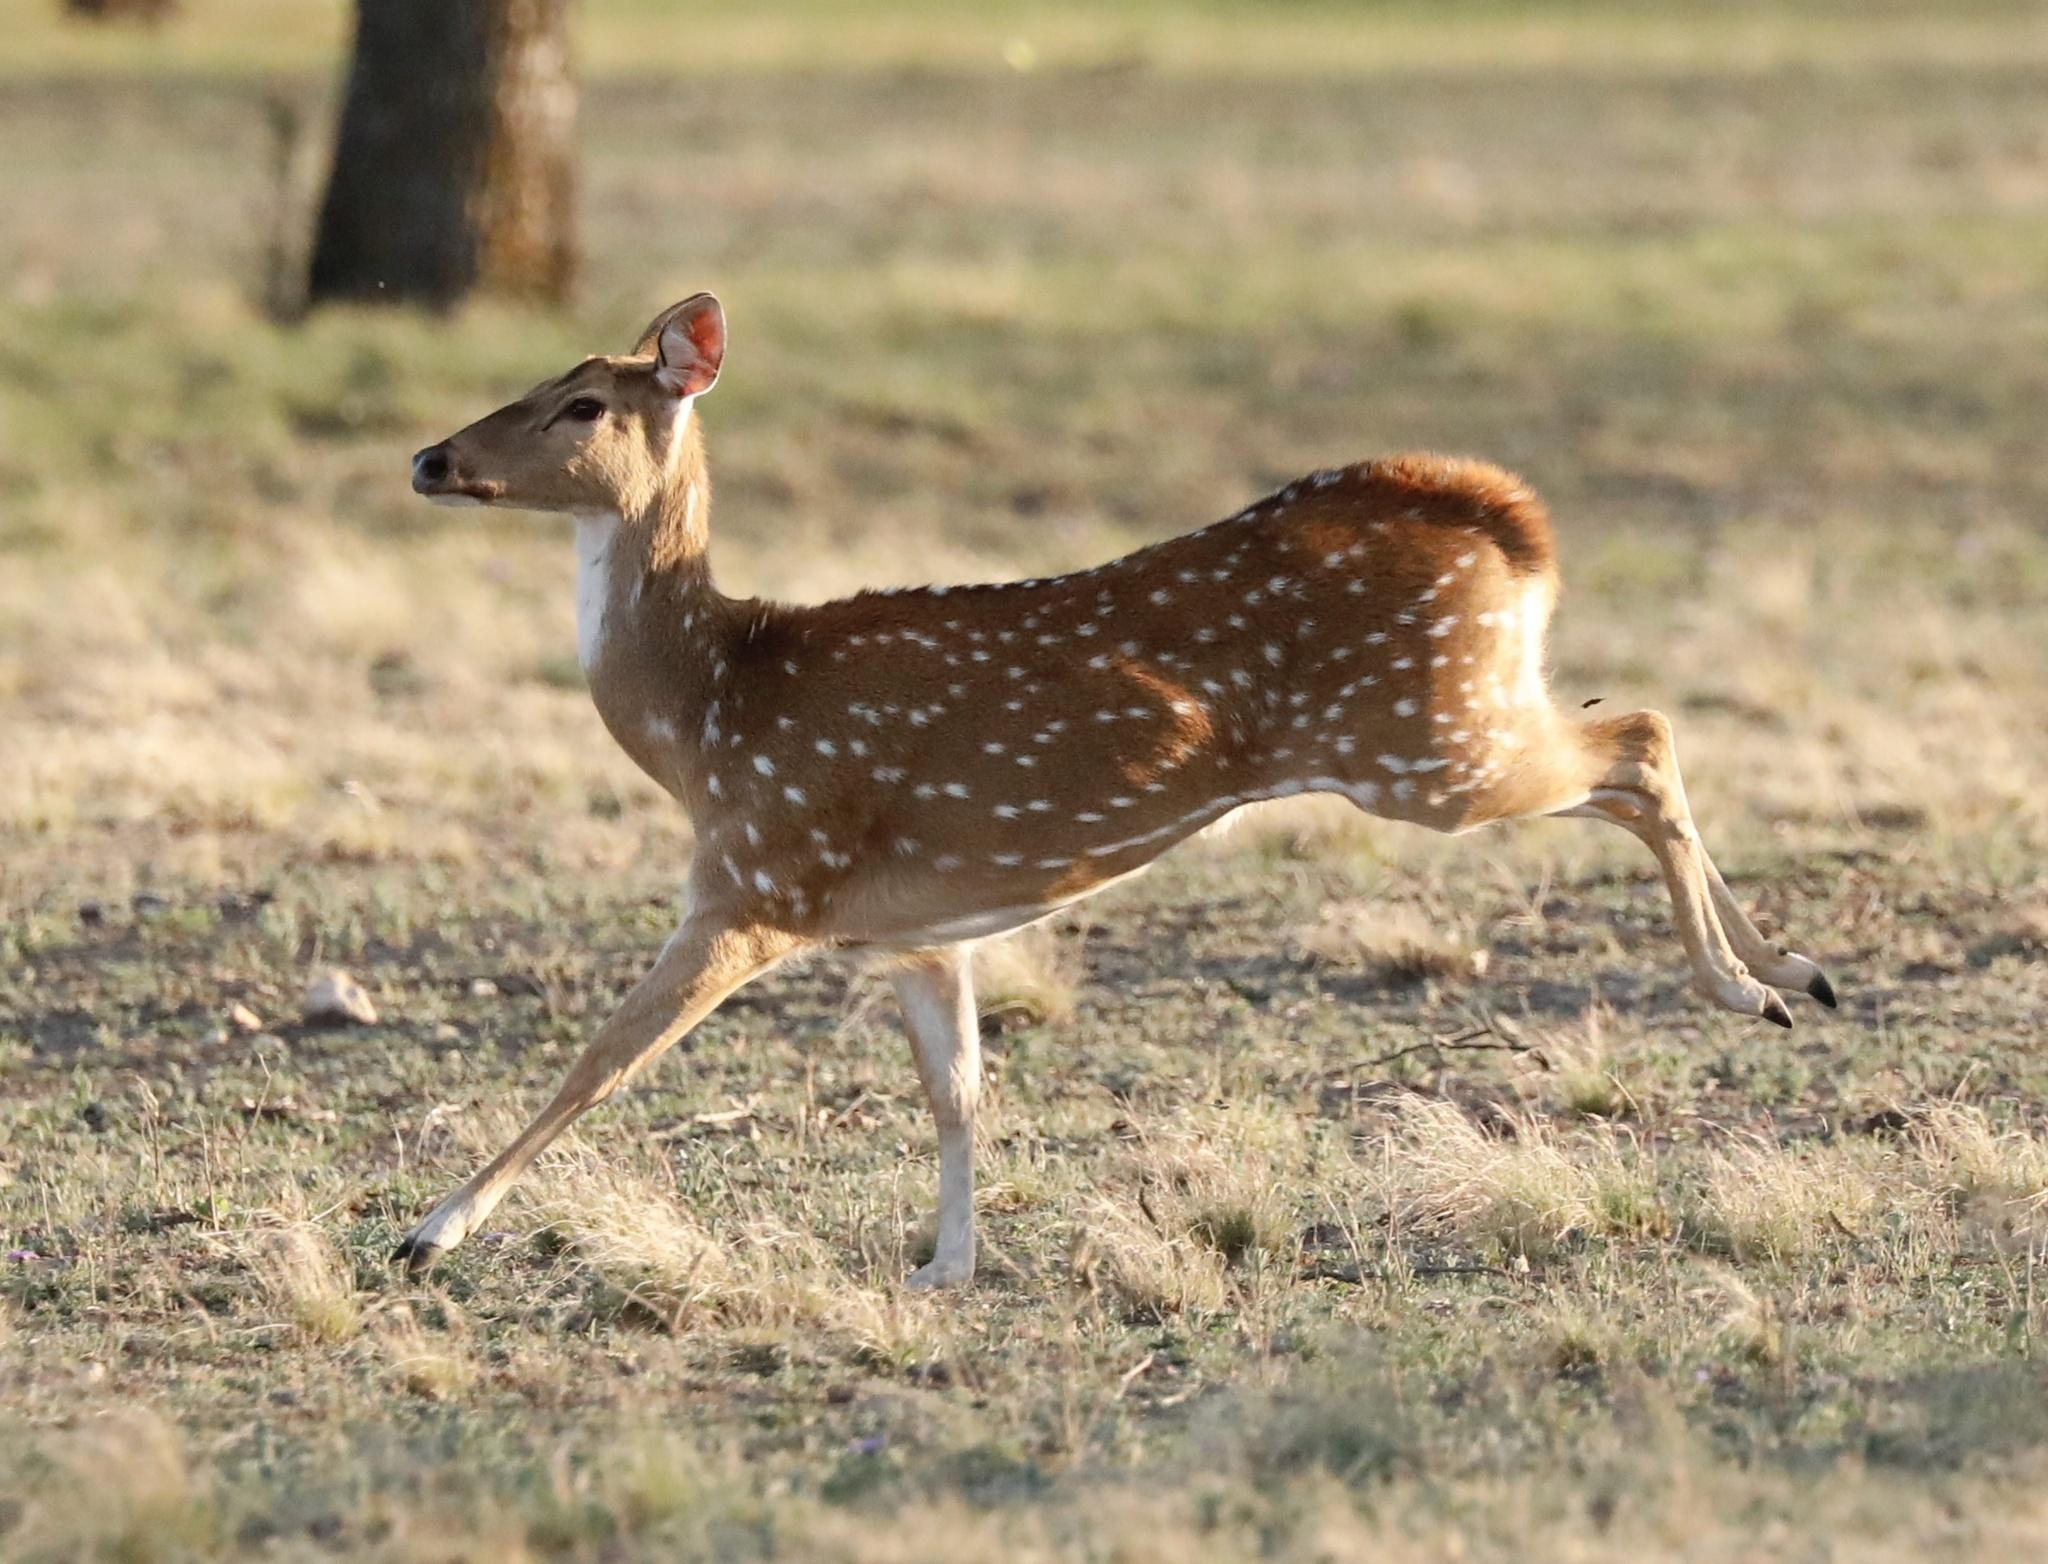Deer: (403, 295, 1828, 1288)
